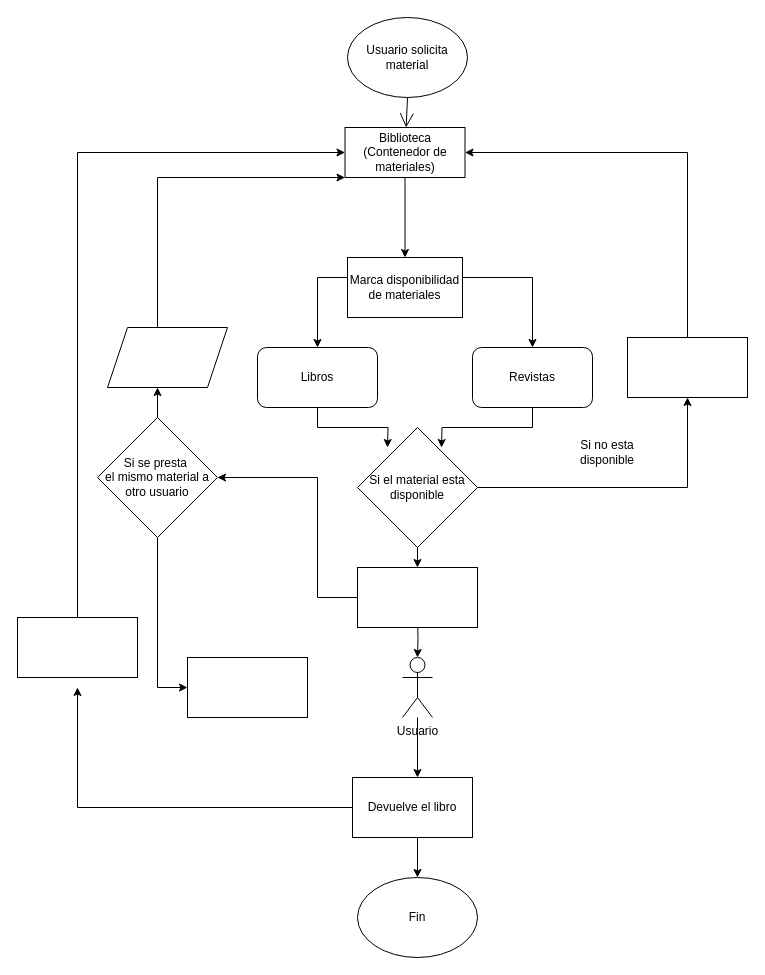
The diagram is 765 pixels wide and 975 high, and some of its shapes have lost their labels. The shapes that lost their labels are listed below. From the top down, each one's centre as x and y in pixels, then its label:
At pixel 167 357: "Error, el material no esta disponible".
At pixel 687 367: "Notificar la falta de disponibilidad".
At pixel 417 597: "Se presta material a".
At pixel 77 647: "Material disponible".
At pixel 247 687: "No se presta material al usuario".
